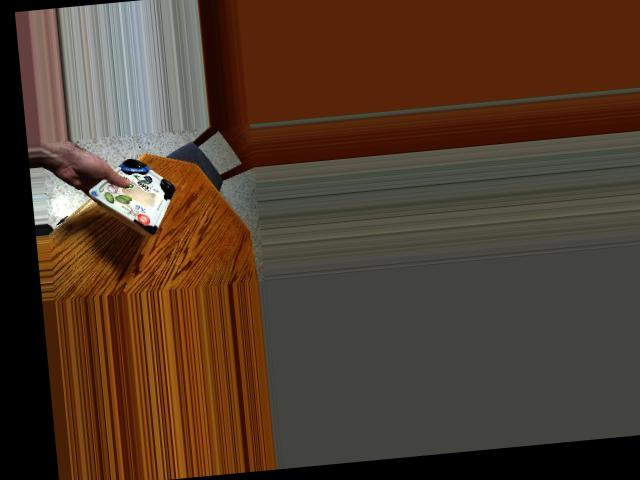cheese: (97, 163, 179, 234)
